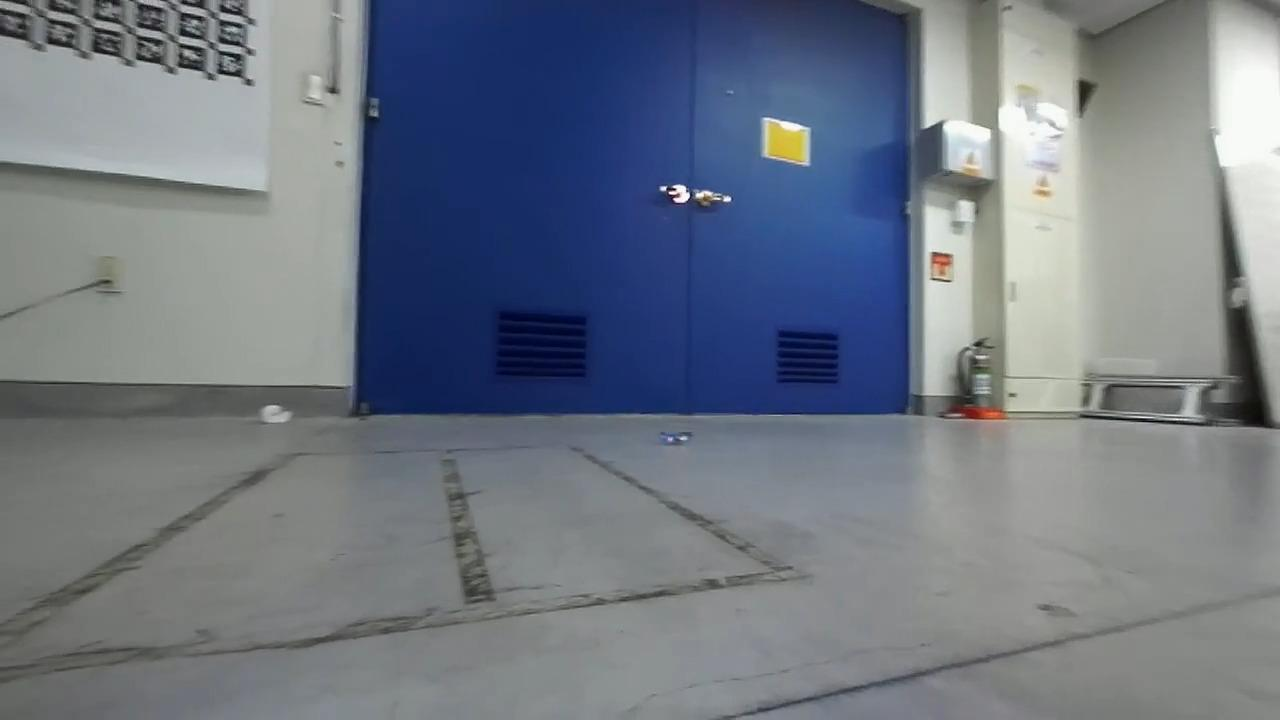crazyflie: (649, 426, 701, 451)
